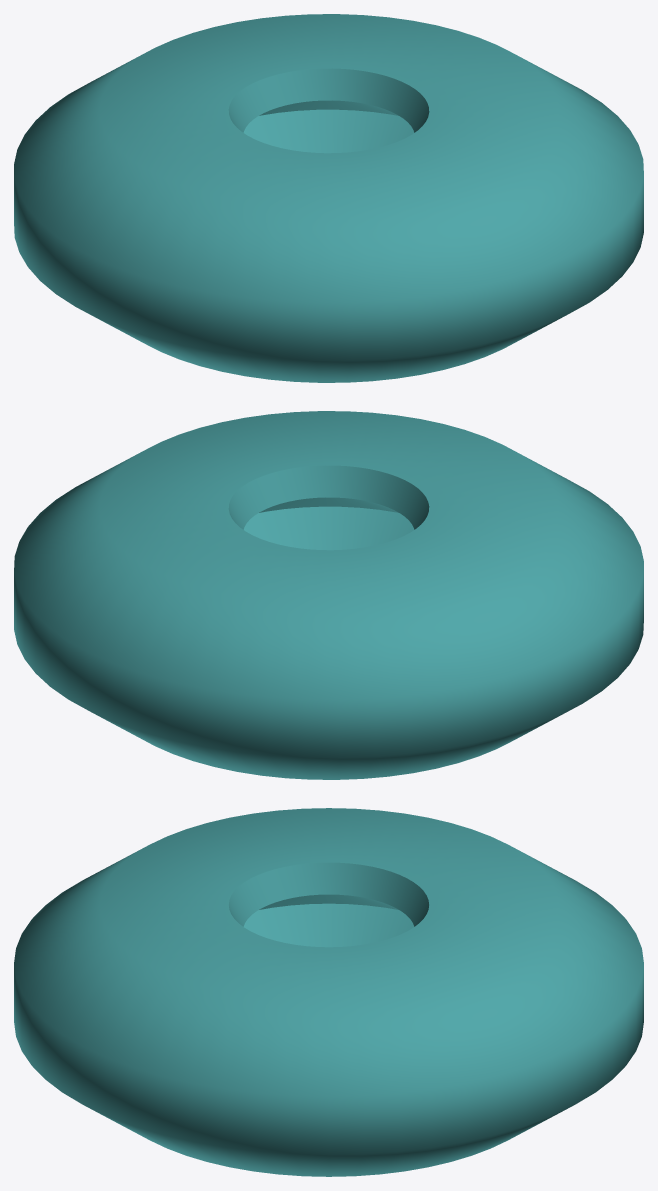
The model's file is enchanted-harp-garden-and-music-sanctuary-bowl-cushion-38bd91dd__30421.glb.
3 renders of one model, top to bottom at view 1: azimuth 30°, elevation 25°; view 2: azimuth 150°, elevation 25°; view 3: azimuth 270°, elevation 25°, orthographic.
Visible parts, largest first — view 1: bowl-cushion; view 2: bowl-cushion; view 3: bowl-cushion.
Part boxes in pixels (x1,y1,x2,y2): bowl-cushion: (14,14,643,382); bowl-cushion: (14,411,643,779); bowl-cushion: (14,808,643,1176).
Bounding box in the file's own units: 0.44 × 0.135 × 0.44.
